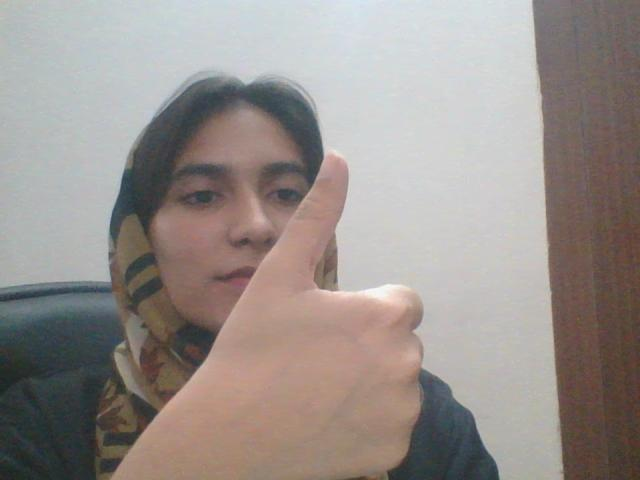thumbs-up: (255, 154, 433, 474)
